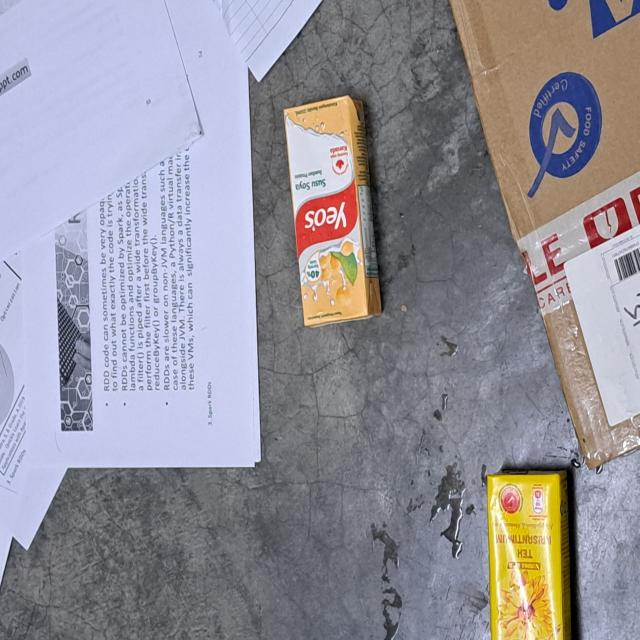cardboard: (453, 0, 640, 466)
drink carton: (284, 95, 378, 328), (488, 476, 576, 640)
paper: (0, 0, 324, 591)
